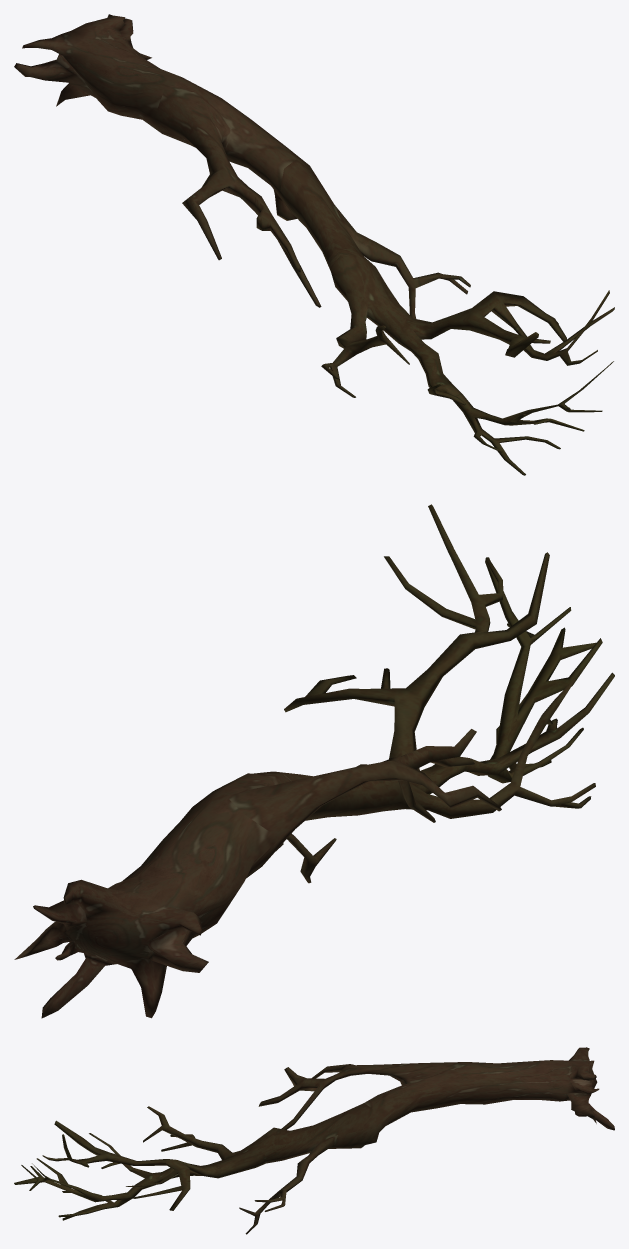
Rendered from Tree_Custom01_LODs.fbx.
3 views of the same model, one above another, from view 1: azimuth 30°, elevation 25°; view 2: azimuth 150°, elevation 25°; view 3: azimuth 270°, elevation 25° (orthographic). The views are drawn at different scales.
Visible parts, largest first — view 1: Tree_Custom01_LOD0; view 2: Tree_Custom01_LOD0; view 3: Tree_Custom01_LOD0.
Boxes of the visible parts, box(x1,y1,x2,y2) form: Tree_Custom01_LOD0: box(14, 14, 614, 475); Tree_Custom01_LOD0: box(14, 504, 614, 1018); Tree_Custom01_LOD0: box(14, 1047, 614, 1234).
Size of what is drawn, in the model's own units: 3.73 by 2.78 by 11.12.
1 material, 1 textured.
